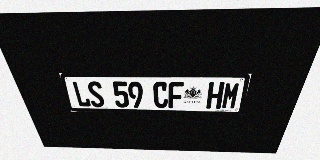5: (112, 81, 130, 107)
9: (127, 81, 144, 108)
C: (153, 82, 168, 108)
F: (168, 82, 184, 108)
H: (206, 82, 225, 109)
L: (71, 81, 92, 107)
M: (221, 82, 241, 109)
S: (86, 81, 105, 107)
